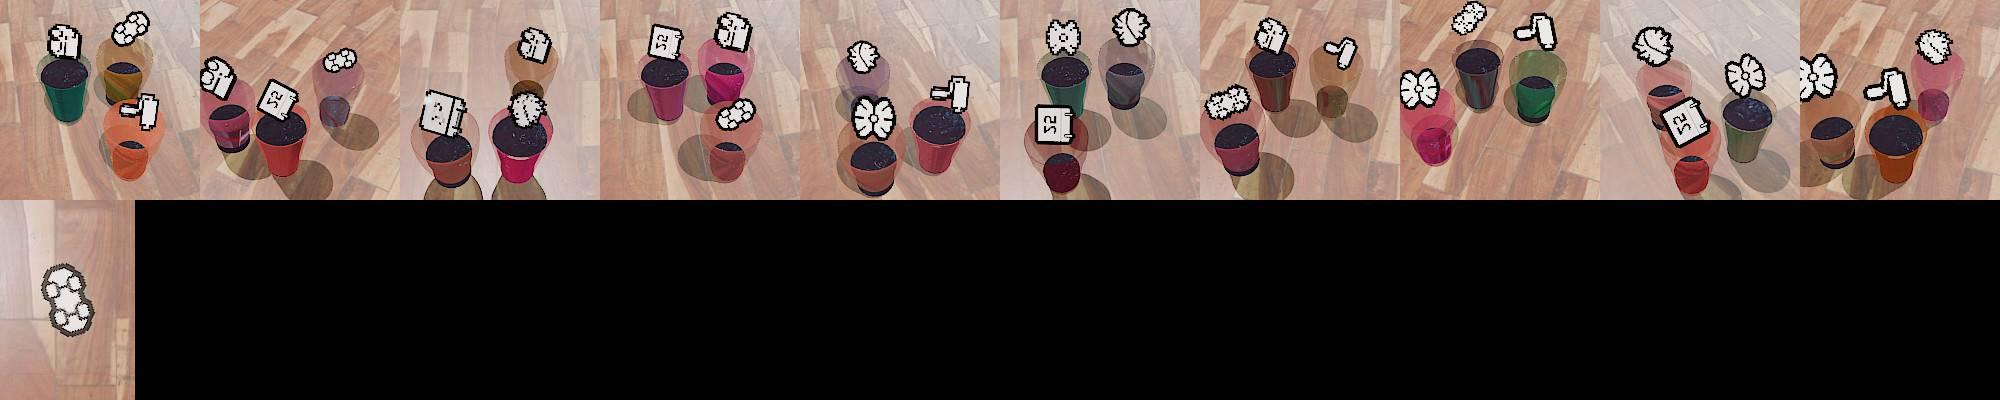icon: (38, 261, 94, 339), (1659, 96, 1712, 149), (418, 88, 466, 138), (849, 96, 897, 143), (256, 78, 301, 124), (1798, 52, 1839, 102), (1864, 68, 1909, 111), (1724, 52, 1765, 99), (1631, 25, 1675, 68), (1514, 11, 1559, 51), (1399, 66, 1439, 110), (713, 10, 753, 54), (199, 56, 236, 101), (119, 93, 159, 132), (1204, 84, 1249, 120), (1111, 8, 1151, 47), (932, 74, 971, 113), (1045, 18, 1083, 57), (648, 22, 685, 62), (714, 97, 758, 131), (111, 10, 151, 47), (510, 89, 547, 129), (1913, 29, 1953, 66), (1253, 17, 1290, 55), (1450, 0, 1487, 36), (47, 23, 82, 61), (518, 27, 552, 64), (1323, 36, 1357, 71), (846, 39, 880, 74), (1038, 106, 1071, 138), (323, 46, 357, 73)
